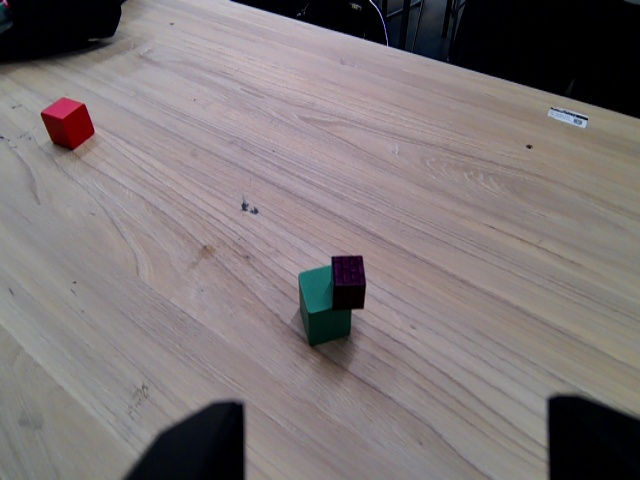brick: (329, 253, 372, 312)
